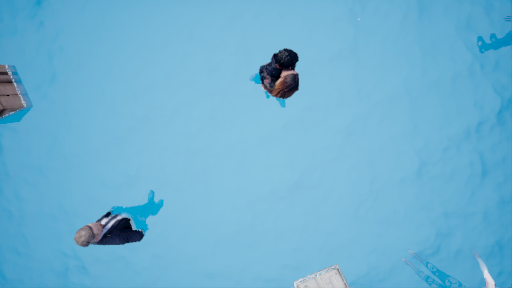person: (71, 197, 165, 247), (243, 50, 304, 103)
